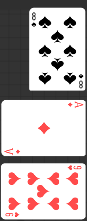8C: (30, 12, 37, 29)
AD: (66, 101, 84, 110)
